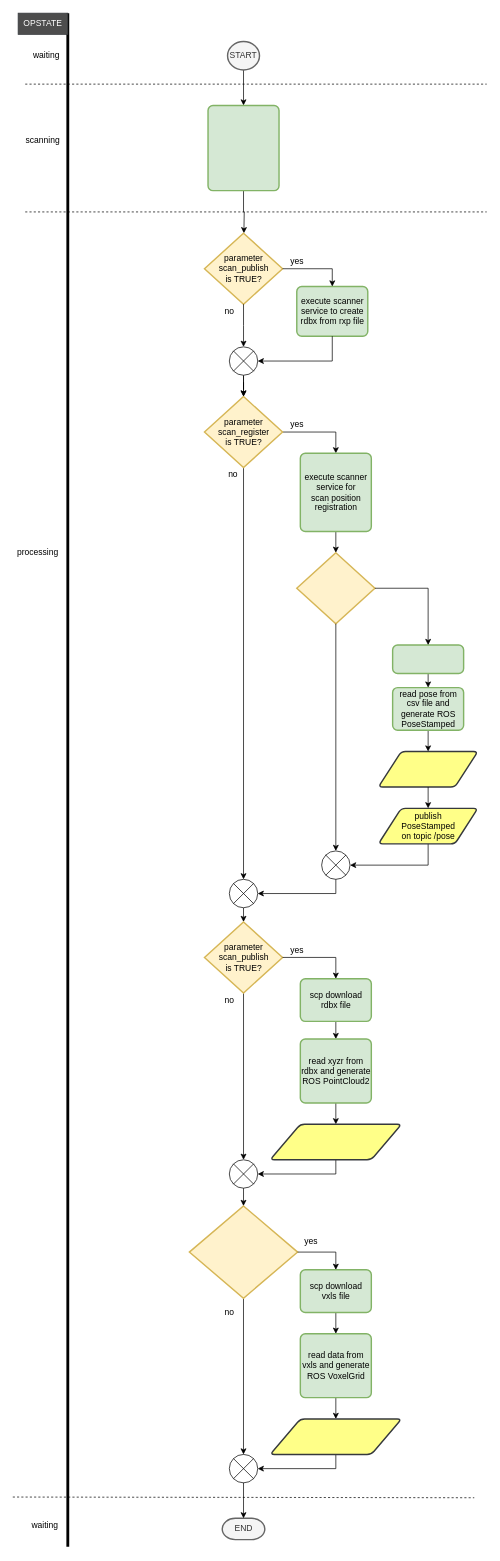
Some shapes in this 500 by 1561 pixel diagram are drawn without their labels. Here are the shapes that lost their labels. From the top down, the centre of each, then its label:
(x=243, y=147): execute scanner service for data acquisition
(x=335, y=588): parameter pose_publish is TRUE?
(x=428, y=659): scp download all_sopv.csv file
(x=427, y=768): broadcast TF2 Transforms
(x=335, y=1141): publish PointCloud2 on topic /pointcloud
(x=243, y=1252): parameter voxel_publish AND scan_register are TRUE?
(x=335, y=1436): publish VoxelGrid on topic /voxelgrid
